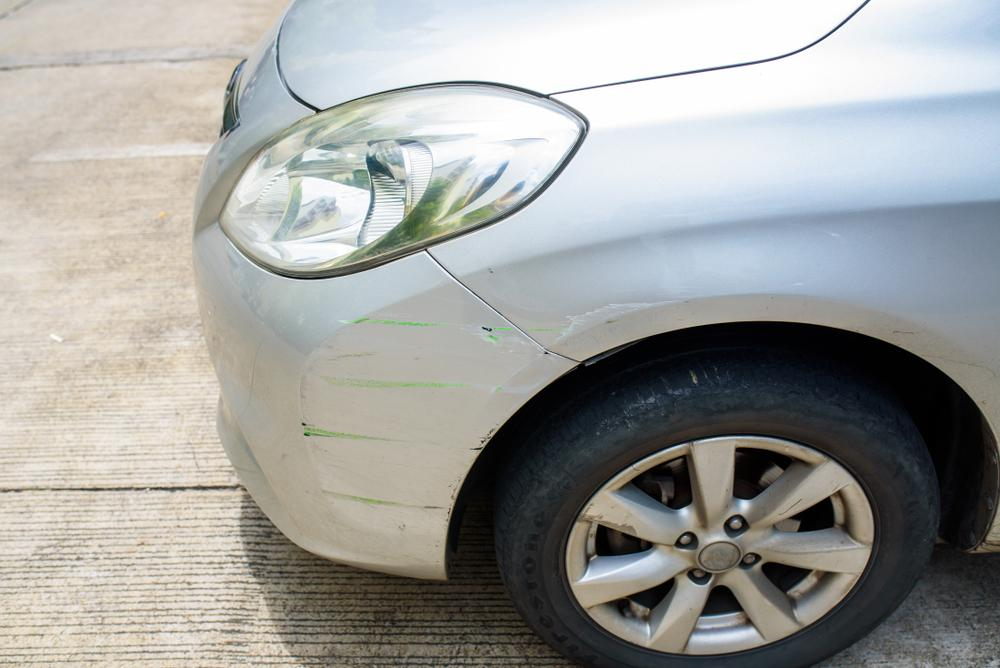scratch: (293, 316, 580, 515), (521, 294, 692, 350)
